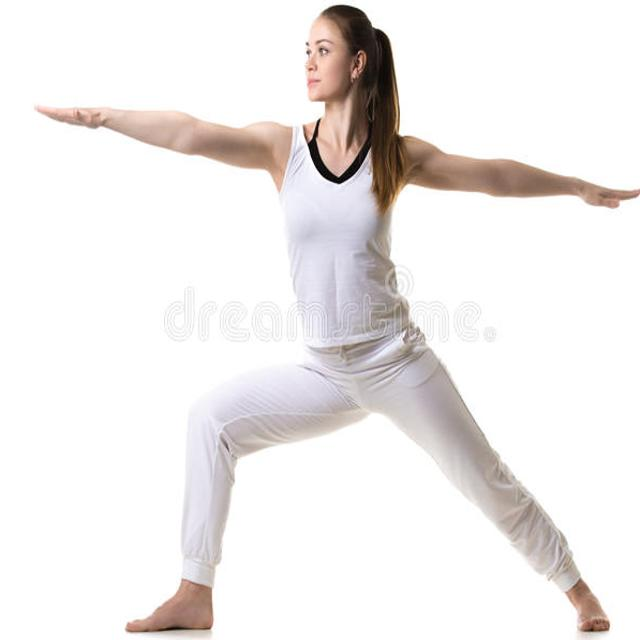Warrior_II: (33, 8, 640, 634)
